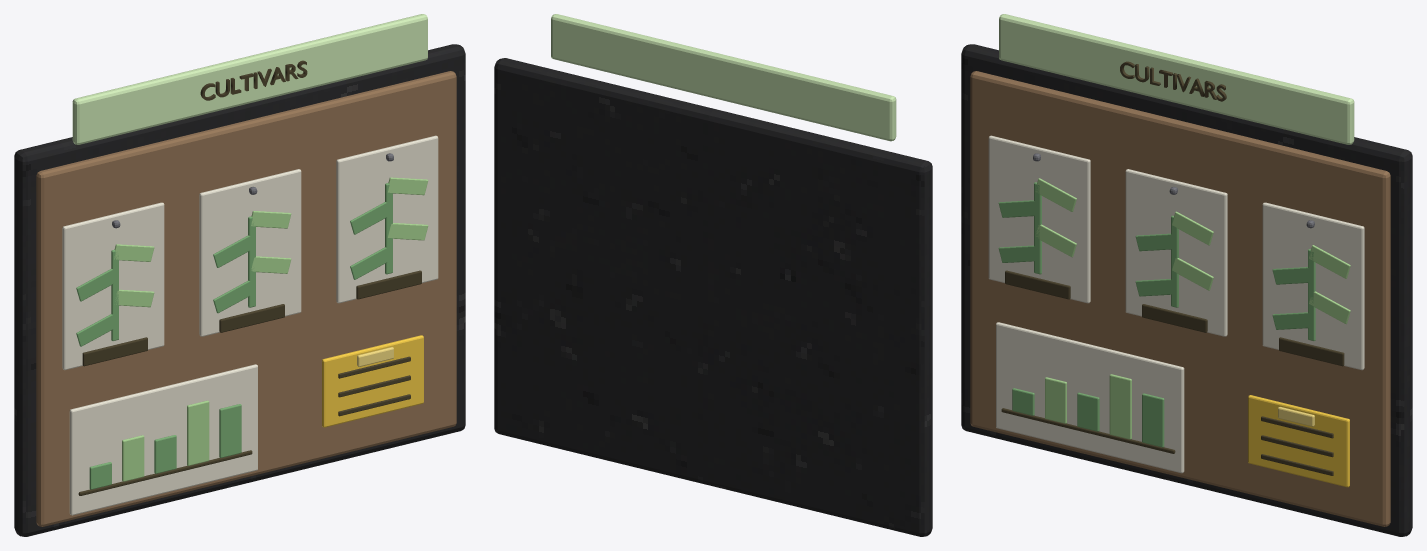
File: decor_bot_sample_board.glb
3 renders of one model, left to right at view 1: azimuth 30°, elevation 25°; view 2: azimuth 150°, elevation 25°; view 3: azimuth 330°, elevation 25°, orthographic. The views are drawn at different scales.
Visible parts, largest first — view 1: DEC_BotSampleBoard__Cork_Face, DEC_BotSampleBoard__Board_Back, DEC_BotSampleBoard__Header, DEC_BotSampleBoard__Chart_Card, DEC_BotSampleBoard__Mount_1, DEC_BotSampleBoard__Mount_2, DEC_BotSampleBoard__Mount_3, DEC_BotSampleBoard__Note_Card, DEC_BotSampleBoard__Chart_Bar_4, DEC_BotSampleBoard__Header_Text, DEC_BotSampleBoard__Chart_Bar_5, DEC_BotSampleBoard__Chart_Bar_2 (+20 smaller); view 2: DEC_BotSampleBoard__Board_Back, DEC_BotSampleBoard__Header; view 3: DEC_BotSampleBoard__Cork_Face, DEC_BotSampleBoard__Board_Back, DEC_BotSampleBoard__Header, DEC_BotSampleBoard__Chart_Card, DEC_BotSampleBoard__Mount_3, DEC_BotSampleBoard__Mount_1, DEC_BotSampleBoard__Mount_2, DEC_BotSampleBoard__Note_Card, DEC_BotSampleBoard__Chart_Bar_4, DEC_BotSampleBoard__Header_Text, DEC_BotSampleBoard__Chart_Bar_5, DEC_BotSampleBoard__Mount_Label_1 (+20 smaller).
Boxes of the visible parts, x1,y1,x2,y2 form: DEC_BotSampleBoard__Cork_Face: [36, 71, 456, 526]; DEC_BotSampleBoard__Board_Back: [14, 44, 465, 536]; DEC_BotSampleBoard__Header: [72, 14, 427, 144]; DEC_BotSampleBoard__Chart_Card: [69, 364, 257, 515]; DEC_BotSampleBoard__Mount_1: [62, 202, 164, 370]; DEC_BotSampleBoard__Mount_2: [199, 169, 301, 336]; DEC_BotSampleBoard__Mount_3: [336, 135, 438, 303]; DEC_BotSampleBoard__Note_Card: [322, 335, 423, 427]; DEC_BotSampleBoard__Chart_Bar_4: [187, 400, 209, 465]; DEC_BotSampleBoard__Header_Text: [200, 60, 307, 100]; DEC_BotSampleBoard__Chart_Bar_5: [219, 404, 241, 457]; DEC_BotSampleBoard__Chart_Bar_2: [122, 435, 144, 481]; DEC_BotSampleBoard__Board_Back: [494, 58, 932, 536]; DEC_BotSampleBoard__Header: [551, 14, 896, 141]; DEC_BotSampleBoard__Cork_Face: [970, 71, 1390, 526]; DEC_BotSampleBoard__Board_Back: [961, 44, 1412, 536]; DEC_BotSampleBoard__Header: [999, 14, 1354, 144]; DEC_BotSampleBoard__Chart_Card: [996, 322, 1184, 473]; DEC_BotSampleBoard__Mount_3: [1262, 202, 1364, 370]; DEC_BotSampleBoard__Mount_1: [988, 135, 1090, 303]; DEC_BotSampleBoard__Mount_2: [1125, 169, 1227, 336]; DEC_BotSampleBoard__Note_Card: [1248, 395, 1349, 487]; DEC_BotSampleBoard__Chart_Bar_4: [1109, 374, 1131, 439]; DEC_BotSampleBoard__Header_Text: [1120, 61, 1226, 101]; DEC_BotSampleBoard__Chart_Bar_5: [1142, 393, 1164, 447]; DEC_BotSampleBoard__Mount_Label_1: [1005, 270, 1070, 299].
Bounding box in the file's own units: 1.24 × 1.15 × 0.097.
10 materials, 2 textured.
